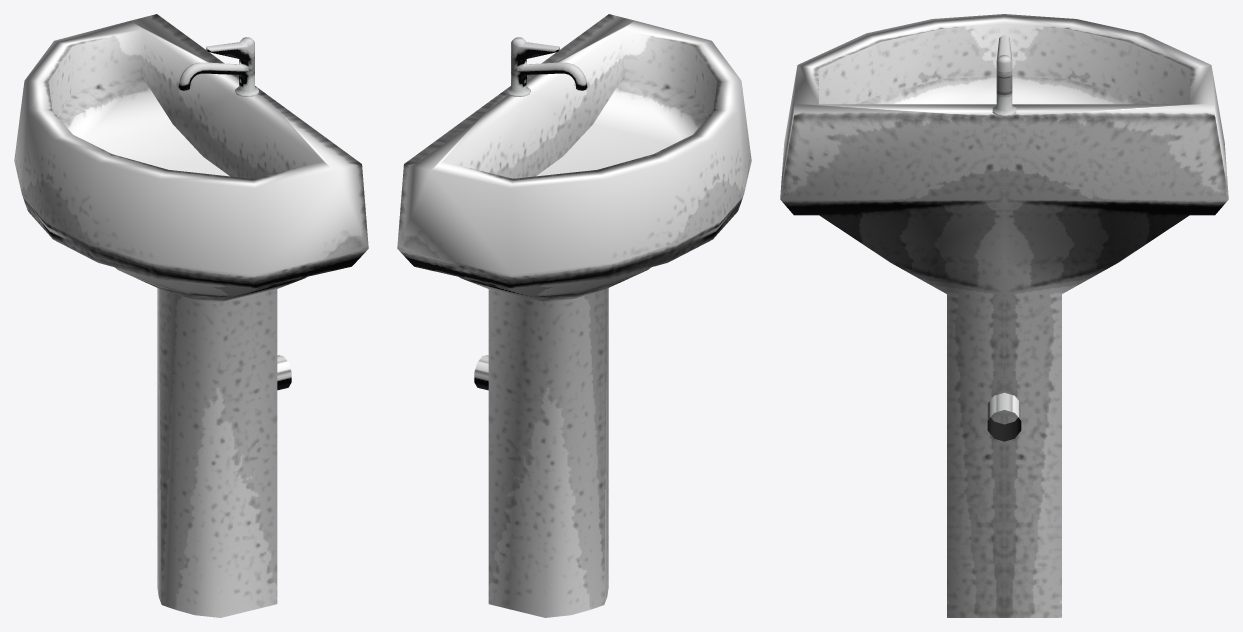
The model's file is BthRmSink.fbx.
3 renders of one model, left to right at view 1: azimuth 30°, elevation 25°; view 2: azimuth 150°, elevation 25°; view 3: azimuth 270°, elevation 25°, orthographic. The views are drawn at different scales.
Parts seen in each view (by area): view 1: polySurface40; view 2: polySurface40; view 3: polySurface40.
Part boxes in pixels (x1=…): polySurface40: x1=14, y1=14, x2=368, y2=617; polySurface40: x1=397, y1=14, x2=751, y2=617; polySurface40: x1=780, y1=14, x2=1228, y2=617.
Bounding box in the file's own units: 63.96 × 140 × 101.
